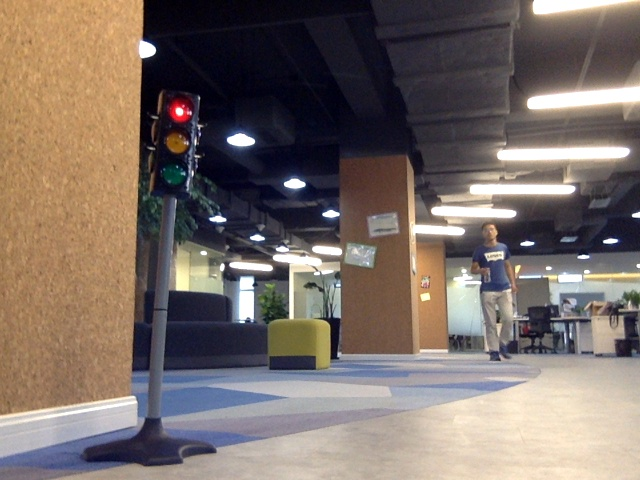red: (158, 96, 192, 186)
